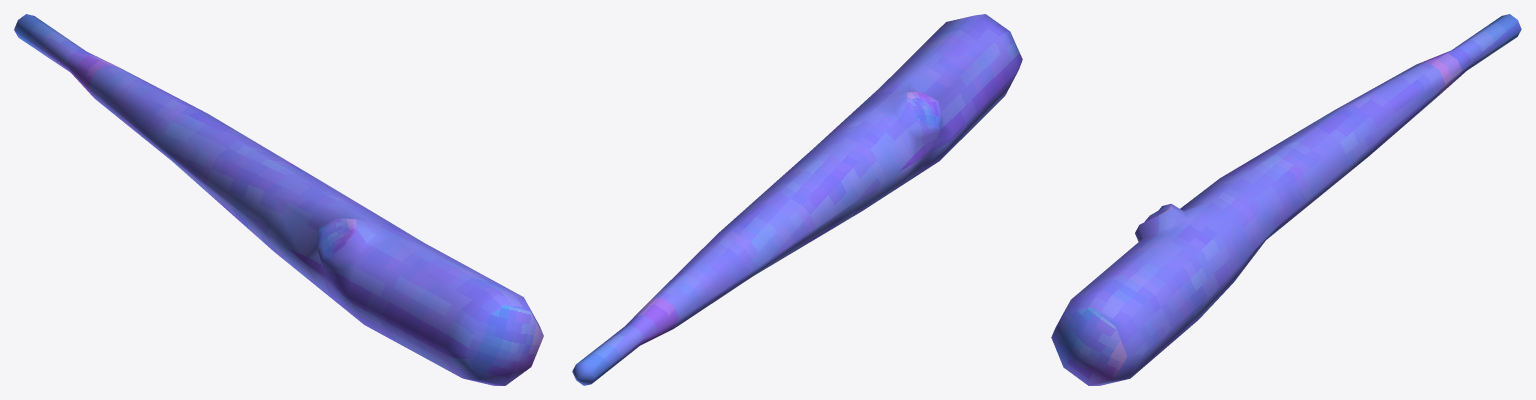
File: FlintClub.fbx
3 renders of one model, left to right at view 1: azimuth 30°, elevation 25°; view 2: azimuth 150°, elevation 25°; view 3: azimuth 330°, elevation 25°, orthographic. The views are drawn at different scales.
Visible parts, largest first — view 1: model; view 2: model; view 3: model.
Part boxes in pixels (box(x1,y1,x2,y2)): model: box(14, 14, 543, 385); model: box(572, 14, 1022, 385); model: box(1051, 14, 1521, 385).
Bounding box in the file's own units: 16.06 × 13.68 × 115.
